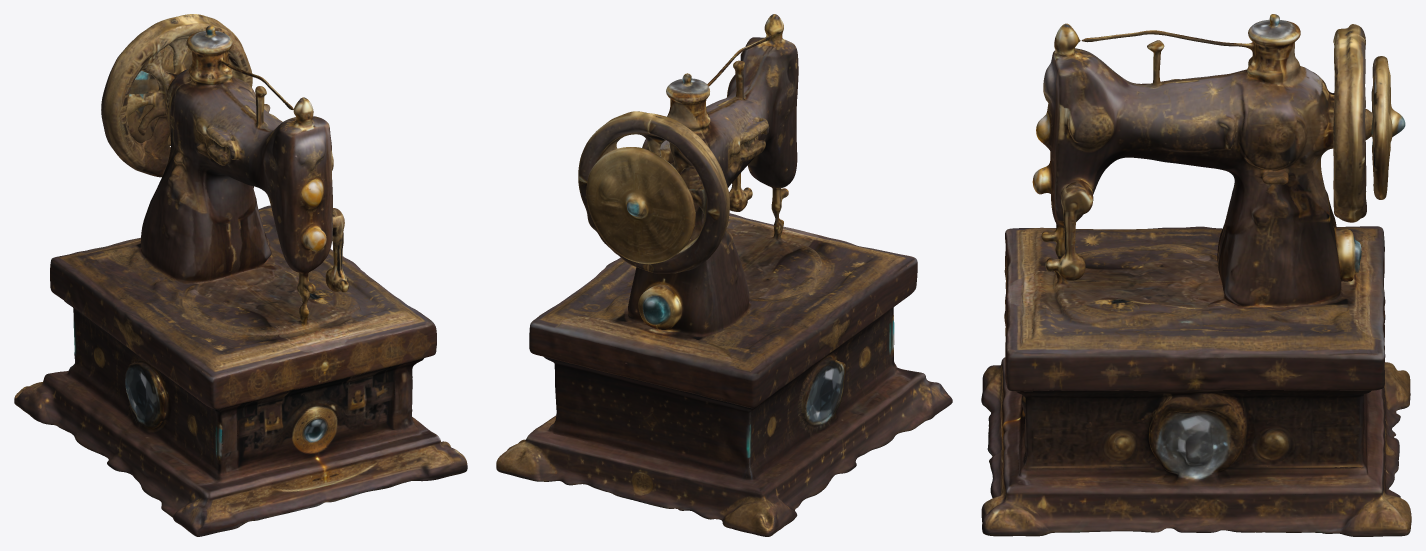
The model's file is A_mystical_sewing_mac_0613144300_texture.fbx.
The picture shows the model from 3 angles, left to right: view 1: azimuth 30°, elevation 25°; view 2: azimuth 150°, elevation 25°; view 3: azimuth 270°, elevation 25°; orthographic projection. The views are drawn at different scales.
Visible parts, largest first — view 1: Mesh1_Mesh1.042; view 2: Mesh1_Mesh1.042; view 3: Mesh1_Mesh1.042.
Boxes of the visible parts, box(x1,y1,x2,y2) form: Mesh1_Mesh1.042: box(14, 14, 467, 536); Mesh1_Mesh1.042: box(496, 14, 952, 536); Mesh1_Mesh1.042: box(981, 14, 1411, 536).
Size of the model in its own units: 150 by 200 by 174.
1 material, 1 textured.
